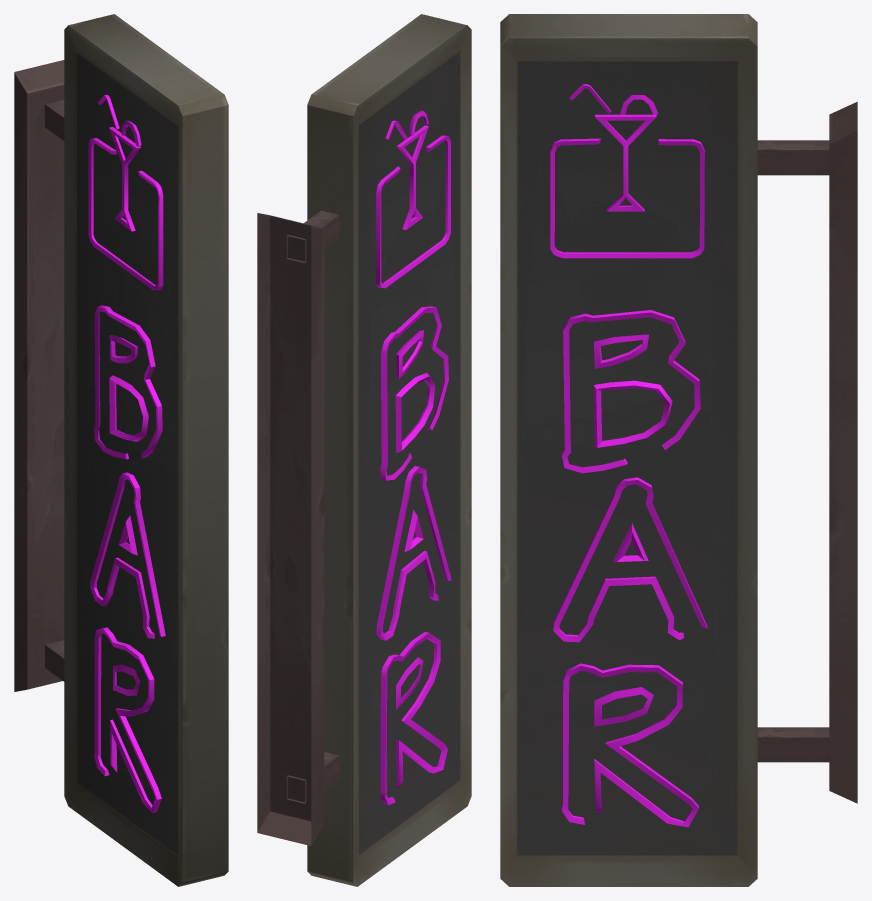
Rendered from S1_mod_NeonSign_002.fbx.
3 renders of one model, left to right at view 1: azimuth 30°, elevation 25°; view 2: azimuth 150°, elevation 25°; view 3: azimuth 270°, elevation 25°, orthographic. The views are drawn at different scales.
Parts seen in each view (by area): view 1: S1_mod_NeonSign_002; view 2: S1_mod_NeonSign_002; view 3: S1_mod_NeonSign_002.
Part boxes in pixels (x1=…): S1_mod_NeonSign_002: x1=14, y1=14, x2=228, y2=886; S1_mod_NeonSign_002: x1=257, y1=14, x2=471, y2=886; S1_mod_NeonSign_002: x1=500, y1=14, x2=857, y2=886.
Size of the model in its own units: 19.68 by 272 by 104.
